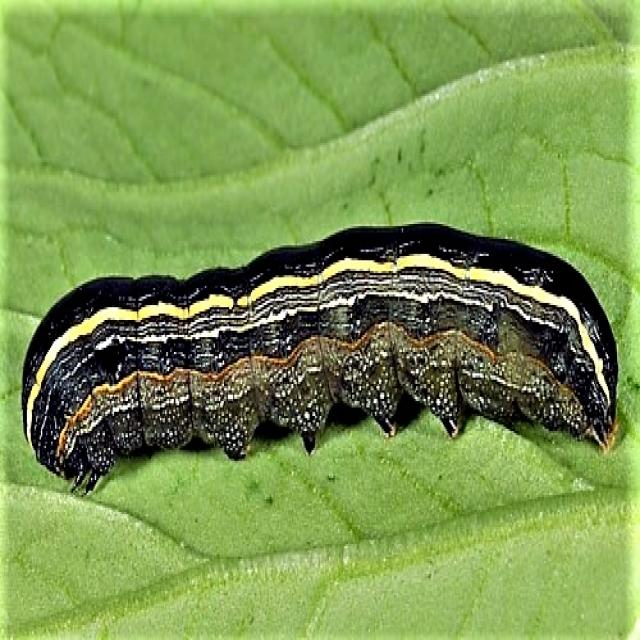armyworm: (21, 218, 618, 497)
